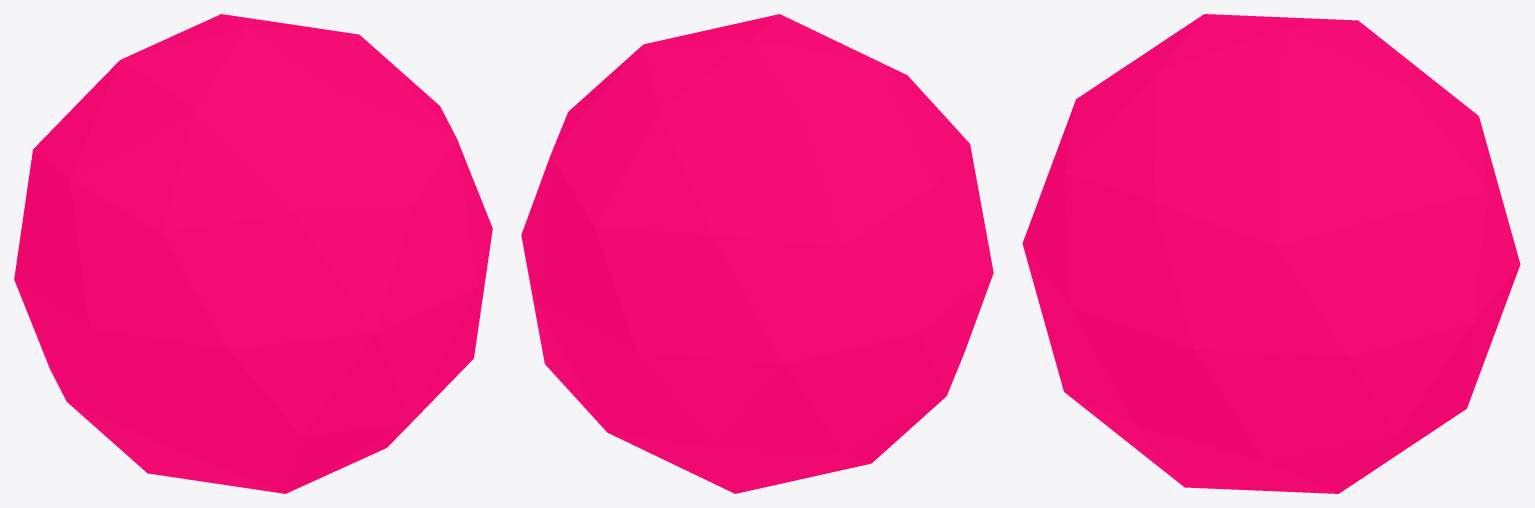
Rendered from 3.2_exam_3dscene_Gem3_simpletextured.glb.
3 views of the same model, side by side, from view 1: azimuth 30°, elevation 25°; view 2: azimuth 150°, elevation 25°; view 3: azimuth 270°, elevation 25° (orthographic). The views are drawn at different scales.
Parts seen in each view (by area): view 1: Gem3; view 2: Gem3; view 3: Gem3.
Part boxes in pixels (x1,y1,x2,y2): Gem3: (14, 14, 492, 493); Gem3: (521, 14, 993, 493); Gem3: (1022, 14, 1520, 493).
Bounding box in the file's own units: 1.03 × 1.08 × 1.08.
